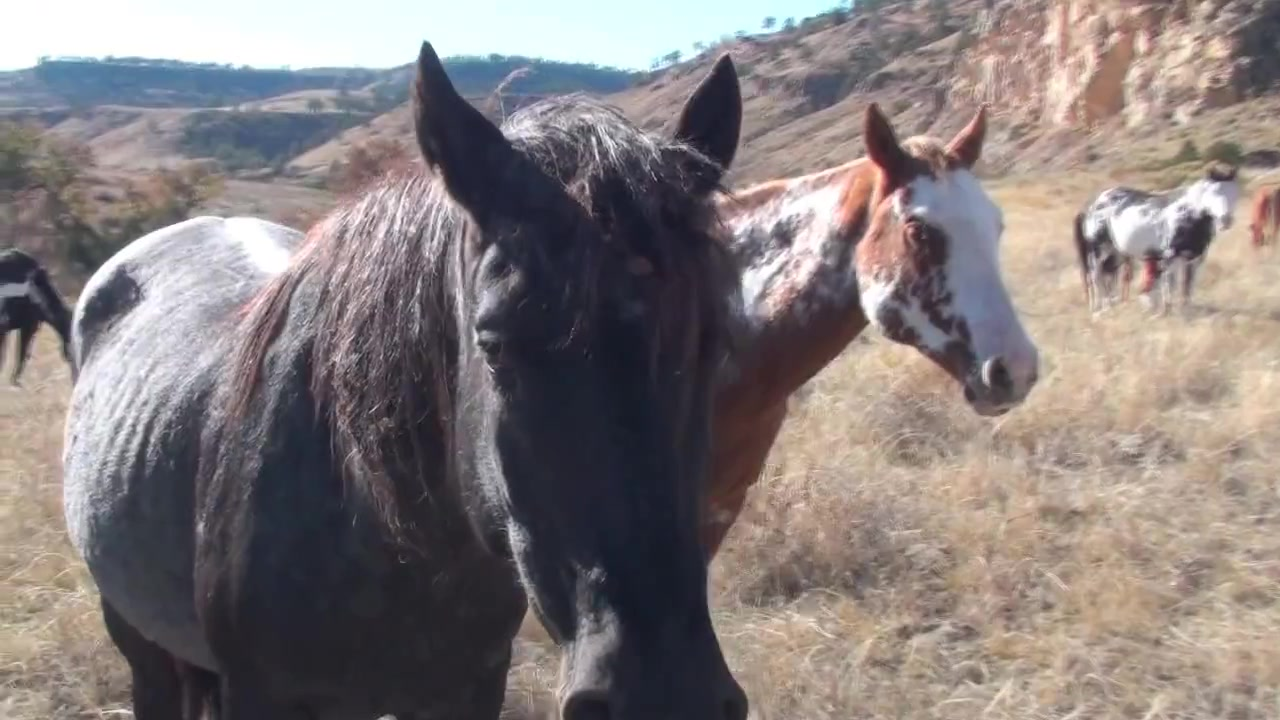horse: (68, 49, 772, 720)
